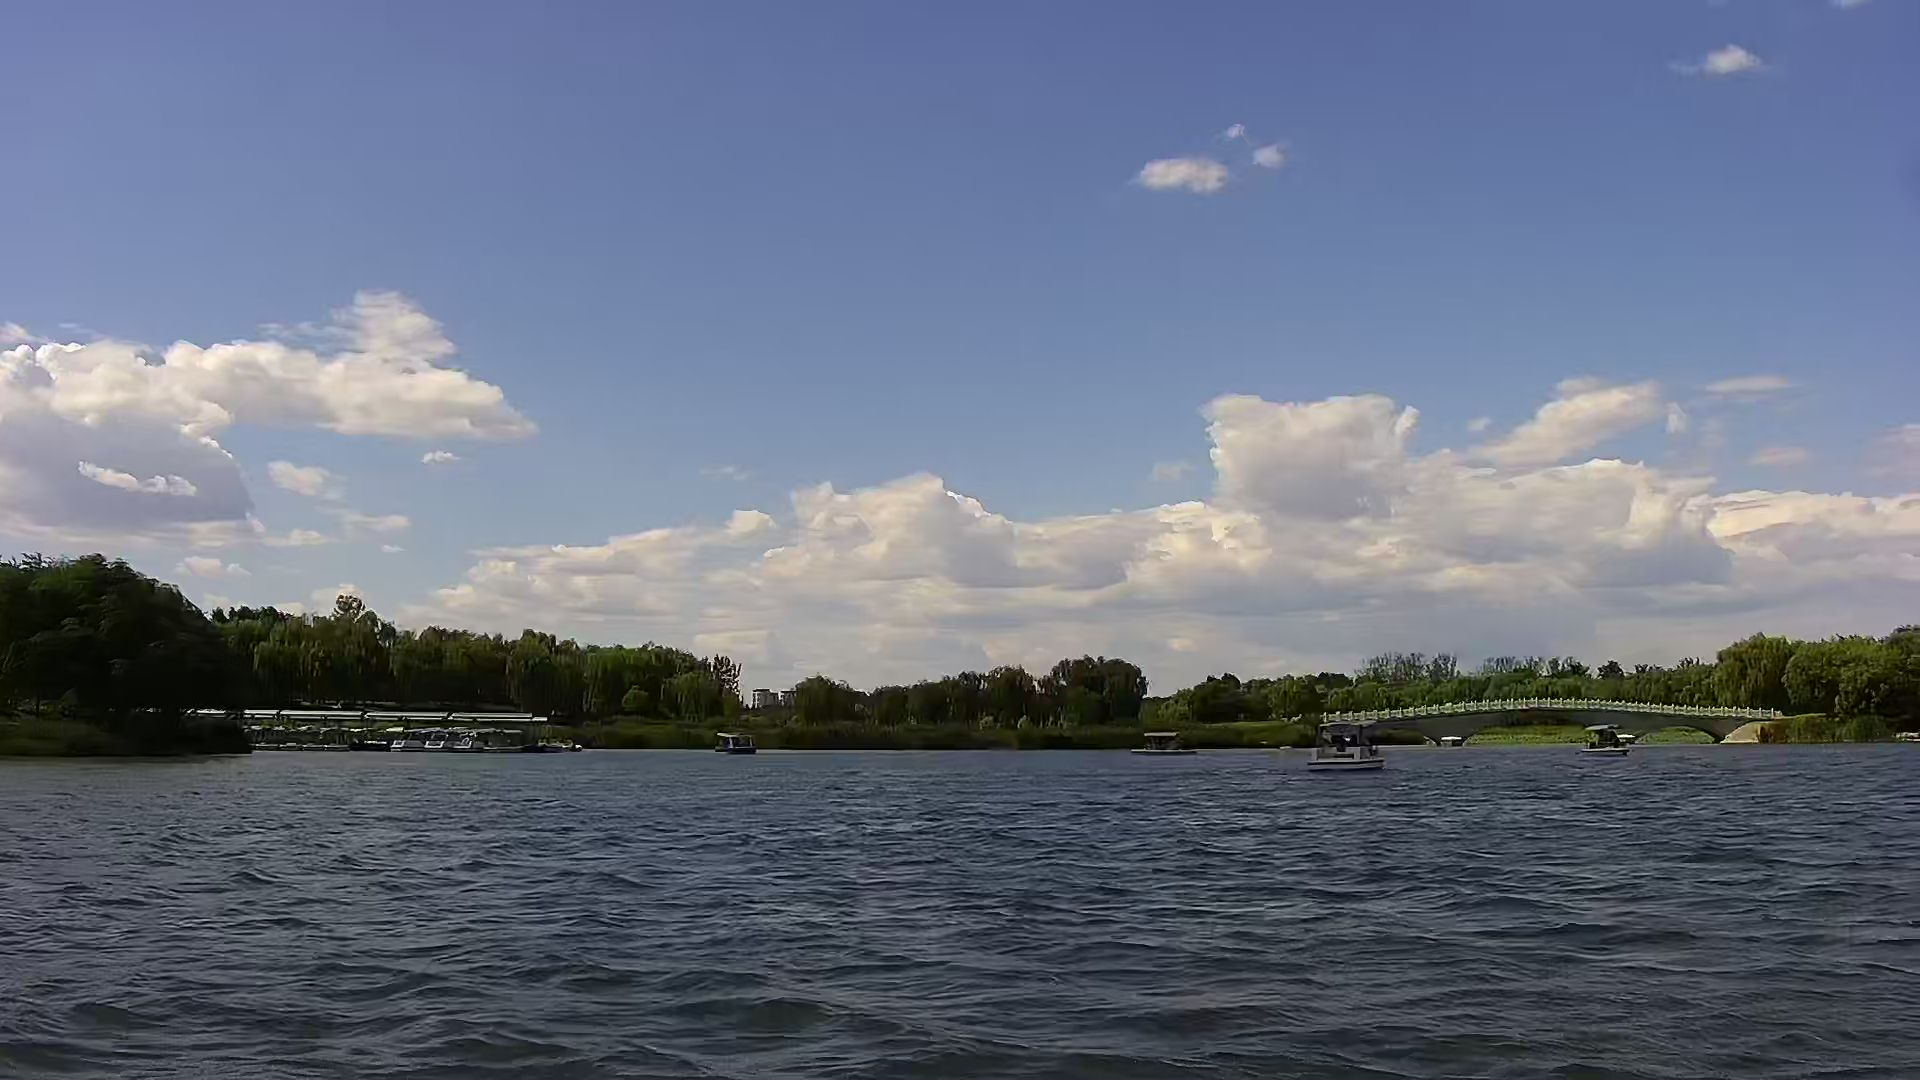boat: (1305, 727, 1396, 771), (709, 720, 777, 767), (1129, 720, 1195, 756), (1582, 723, 1642, 760)
bridge: (1315, 694, 1793, 758)
